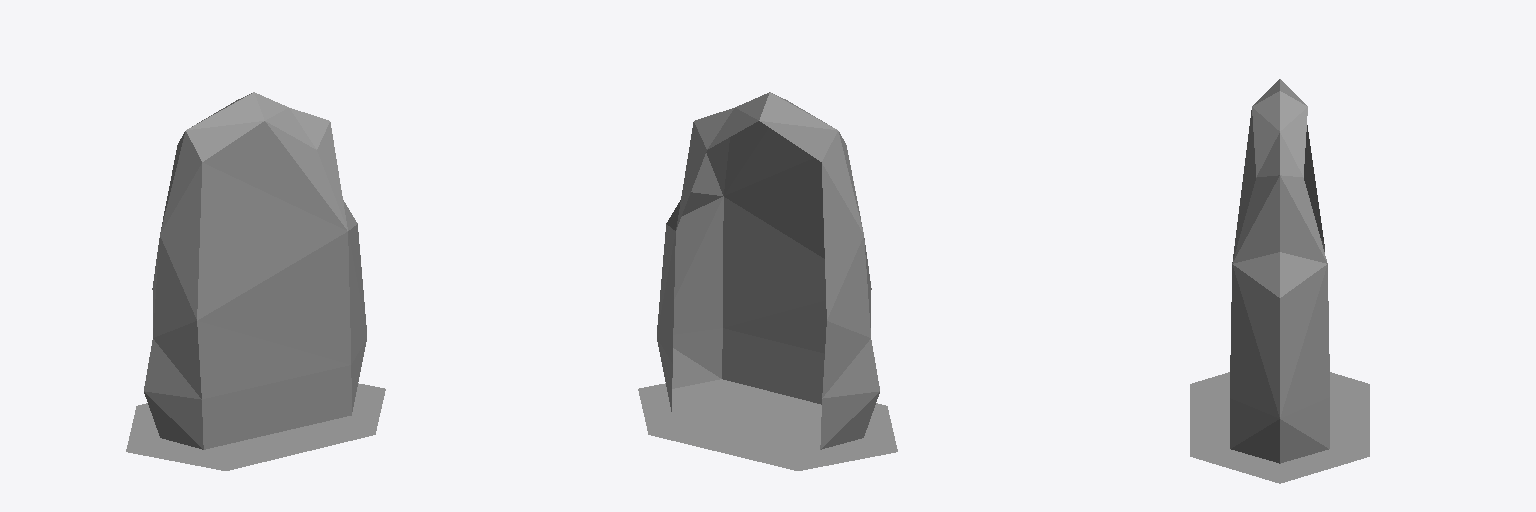
The model's file is ookiihashira.obj.
3 views of the same model, side by side, from view 1: azimuth 30°, elevation 25°; view 2: azimuth 150°, elevation 25°; view 3: azimuth 270°, elevation 25° (orthographic).
Parts seen in each view (by area): view 1: ookiihashira1; view 2: ookiihashira1; view 3: ookiihashira1.
Part boxes in pixels (left/top/right/bottom): ookiihashira1: left=126, top=92, right=385, bottom=470; ookiihashira1: left=638, top=92, right=897, bottom=470; ookiihashira1: left=1190, top=79, right=1369, bottom=483.
Size of the model in its own units: 1.77 by 2.14 by 1.06.